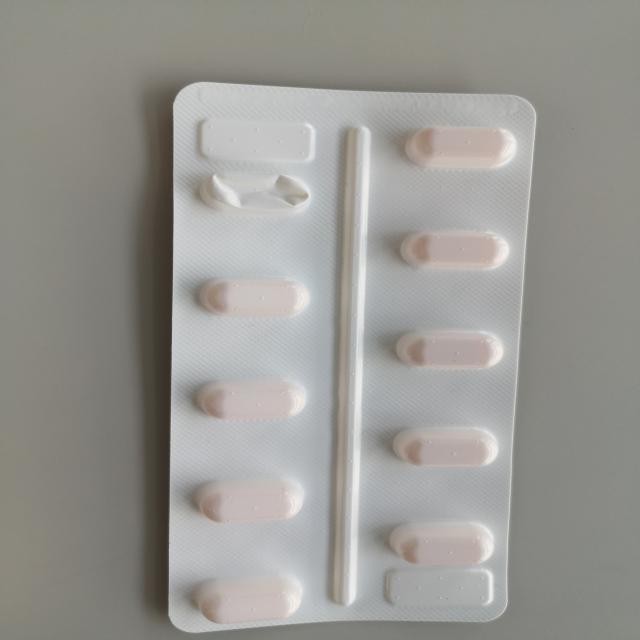Empty: (190, 163, 336, 231)
Pill: (180, 264, 320, 328), (178, 469, 314, 529), (389, 115, 527, 174), (372, 514, 510, 572), (181, 368, 318, 426), (385, 221, 520, 279), (376, 416, 506, 476), (376, 321, 518, 374), (185, 573, 310, 629)
